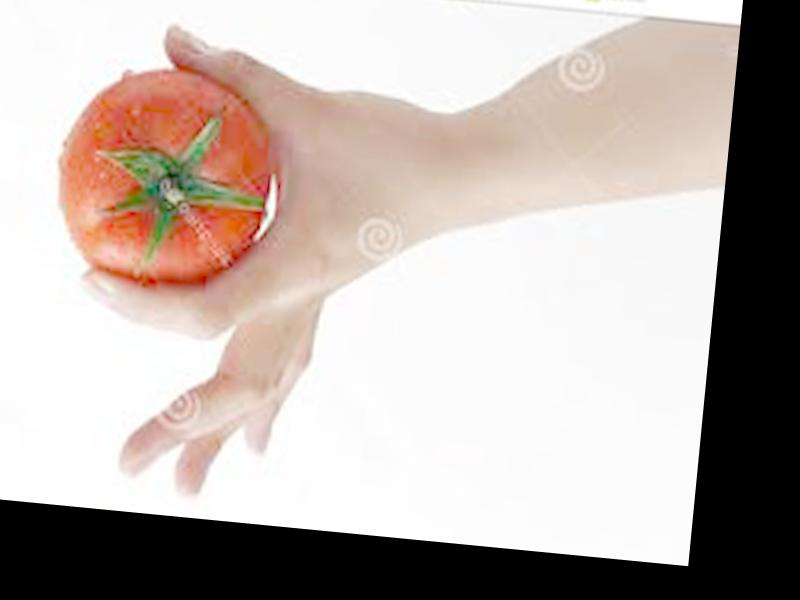Tomato: (47, 59, 281, 298)
